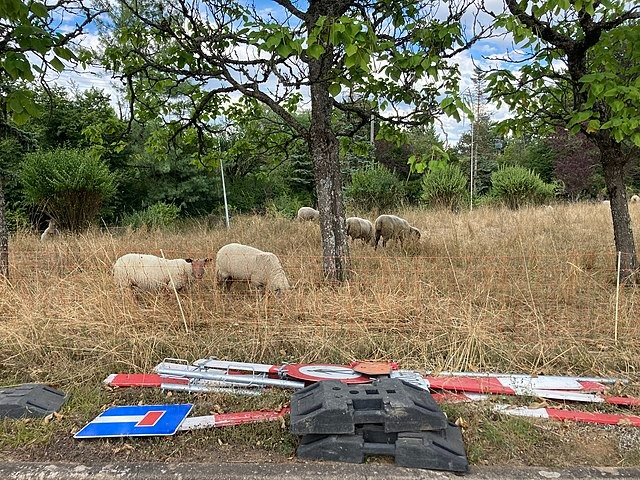grazing: (214, 243, 296, 300), (375, 214, 425, 251), (347, 214, 376, 251)
standing: (111, 252, 211, 307)
